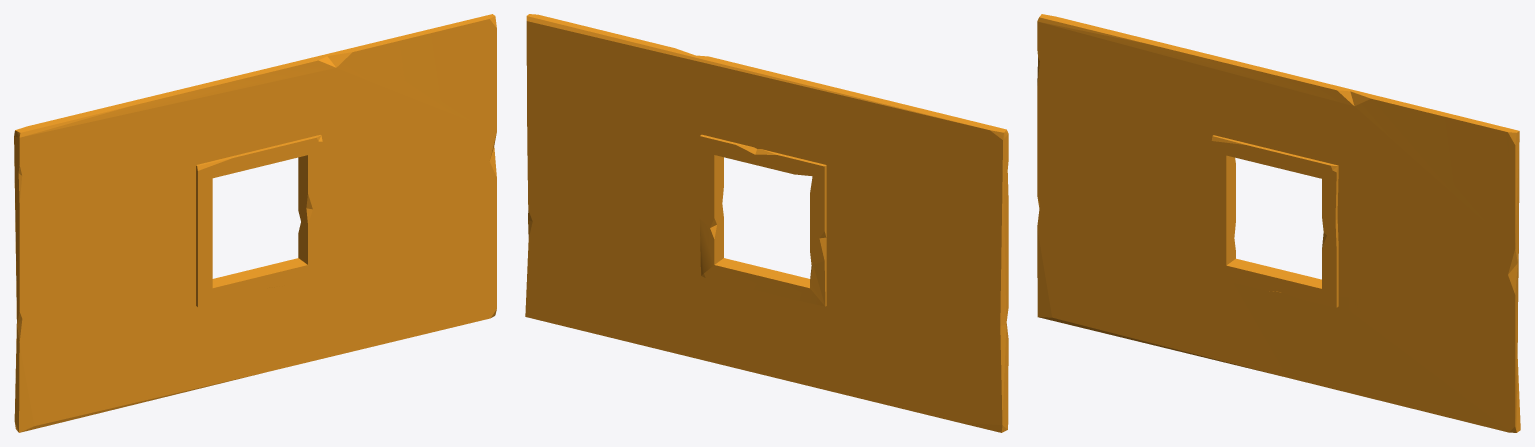
File: SM_Buildings_WallWindow_5x3_01P.fbx
3 renders of one model, left to right at view 1: azimuth 30°, elevation 25°; view 2: azimuth 150°, elevation 25°; view 3: azimuth 330°, elevation 25°, orthographic.
Parts seen in each view (by area): view 1: SM_Buildings_WallWindow_5x3_01P; view 2: SM_Buildings_WallWindow_5x3_01P; view 3: SM_Buildings_WallWindow_5x3_01P.
Boxes of the visible parts, x1=… form: SM_Buildings_WallWindow_5x3_01P: x1=14, y1=14, x2=496, y2=432; SM_Buildings_WallWindow_5x3_01P: x1=525, y1=14, x2=1008, y2=432; SM_Buildings_WallWindow_5x3_01P: x1=1037, y1=14, x2=1520, y2=432.
Size of the model in its own units: 500 by 300 by 17.29.
